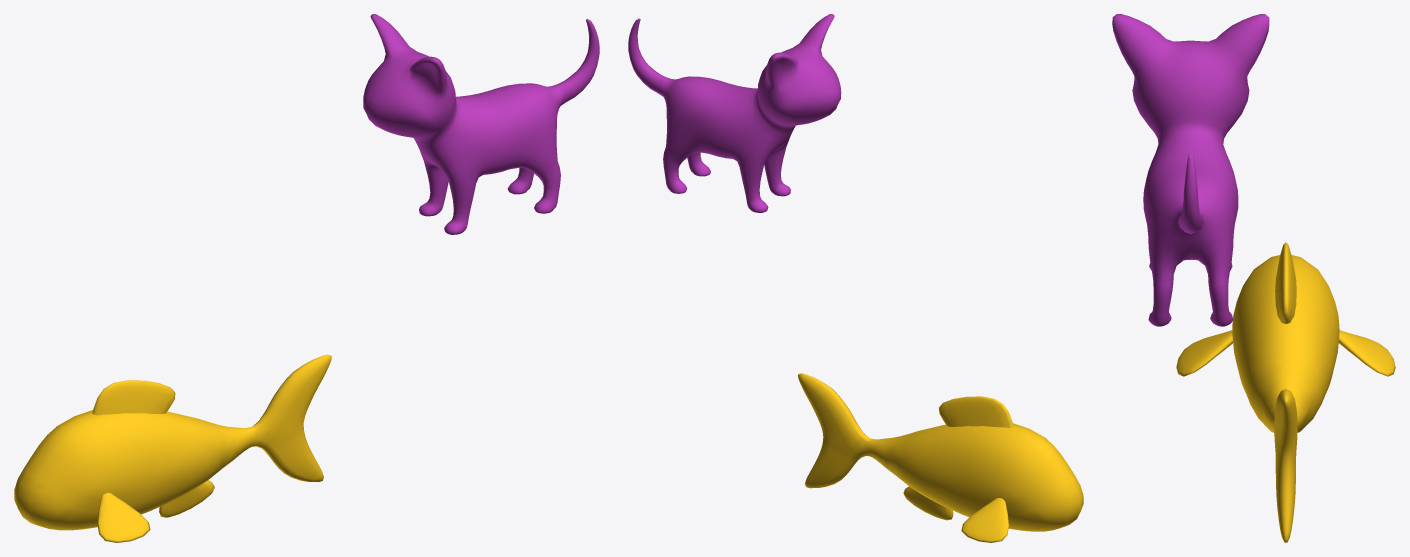
3 renders of one model, left to right at view 1: azimuth 30°, elevation 25°; view 2: azimuth 150°, elevation 25°; view 3: azimuth 270°, elevation 25°, orthographic. The views are drawn at different scales.
Parts seen in each view (by area): view 1: mesh_id29, mesh_id27; view 2: mesh_id29, mesh_id27; view 3: mesh_id27, mesh_id29.
Boxes of the visible parts, <box> form: mesh_id29: <box>14,354,331,542</box>; mesh_id27: <box>363,14,599,234</box>; mesh_id29: <box>798,373,1083,542</box>; mesh_id27: <box>628,14,841,212</box>; mesh_id27: <box>1112,14,1269,326</box>; mesh_id29: <box>1176,242,1395,542</box>.
Bounding box in the file's own units: 0.2019 × 0.1649 × 0.0765.
2 materials, 2 textured.
